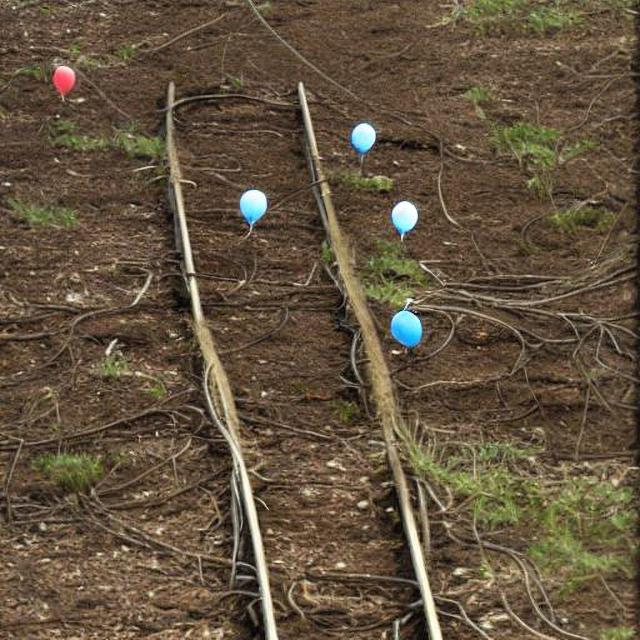balloon: (231, 184, 271, 225), (389, 308, 424, 344), (348, 124, 378, 158), (389, 197, 418, 231), (49, 63, 75, 96)
